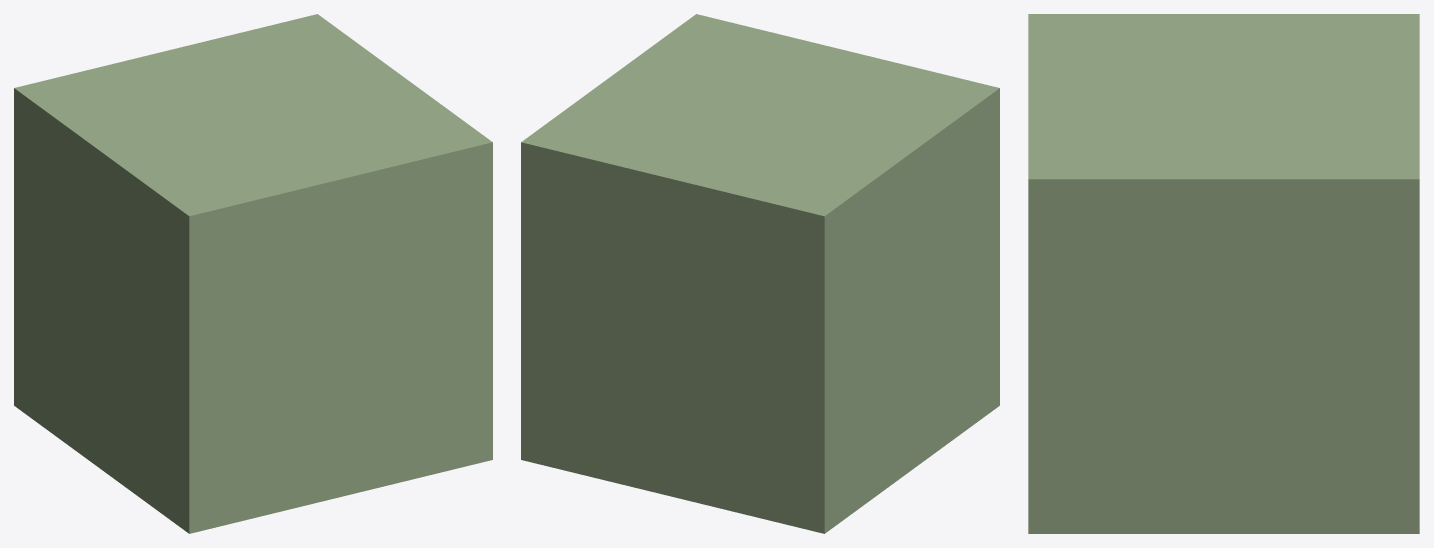
The model's file is Colored_Cube2.fbx.
3 views of the same model, side by side, from view 1: azimuth 30°, elevation 25°; view 2: azimuth 150°, elevation 25°; view 3: azimuth 270°, elevation 25° (orthographic). The views are drawn at different scales.
Parts seen in each view (by area): view 1: pCube1; view 2: pCube1; view 3: pCube1.
Boxes of the visible parts, x1,y1,x2,y2 form: pCube1: (14,14,492,533); pCube1: (521,14,999,533); pCube1: (1028,14,1419,533).
Size of the model in its own units: 1 by 1 by 1.
